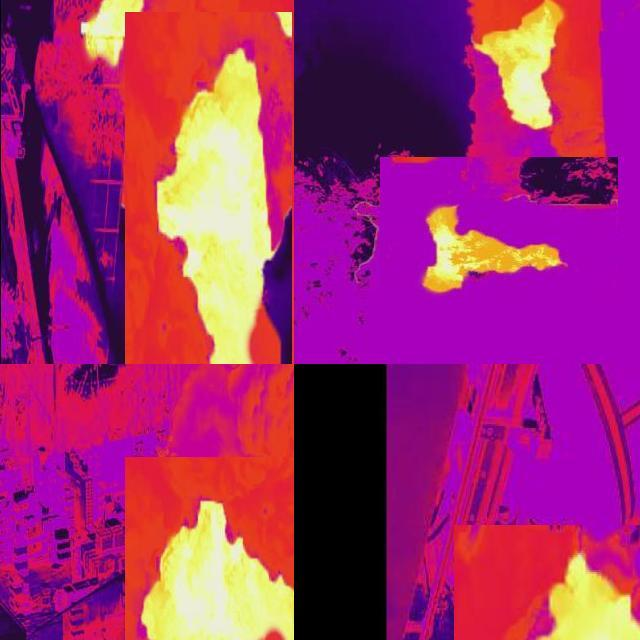fire: (156, 49, 276, 365), (145, 498, 292, 640), (425, 205, 567, 295), (474, 1, 569, 133), (538, 554, 640, 640), (76, 1, 146, 73)
